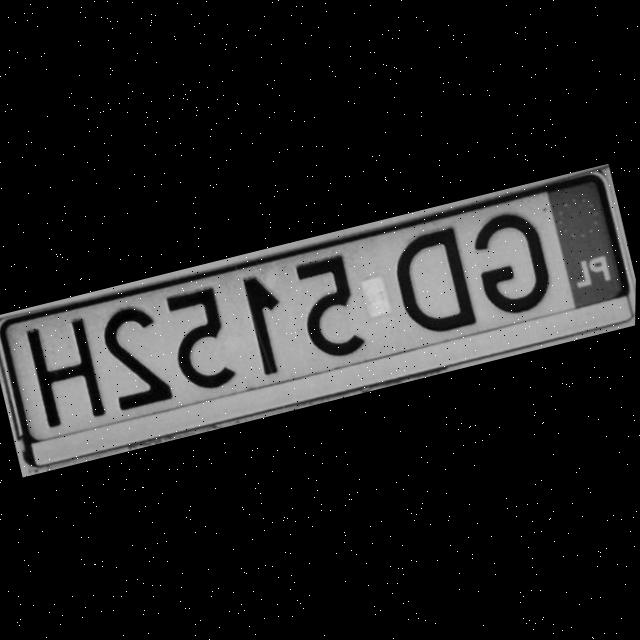license-plates: (3, 178, 628, 442)
